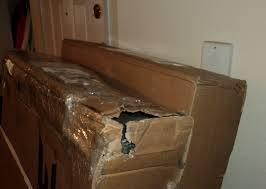damage_box: (5, 48, 193, 189)
